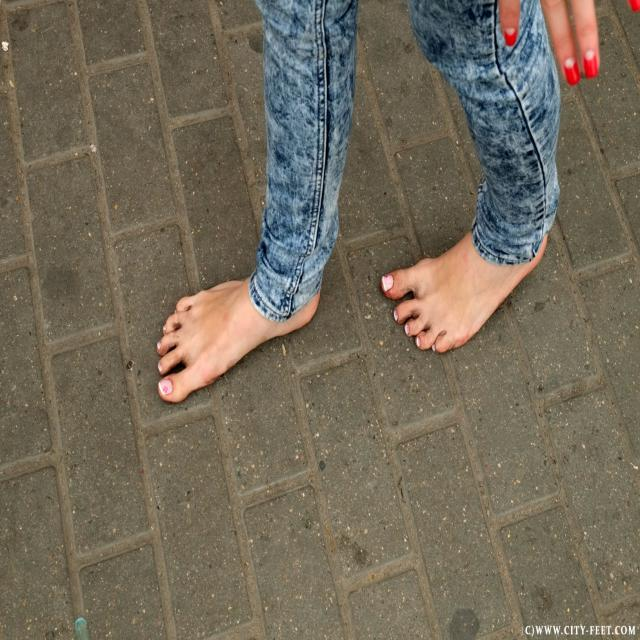Barefoots: (381, 224, 548, 352), (157, 274, 320, 403)
